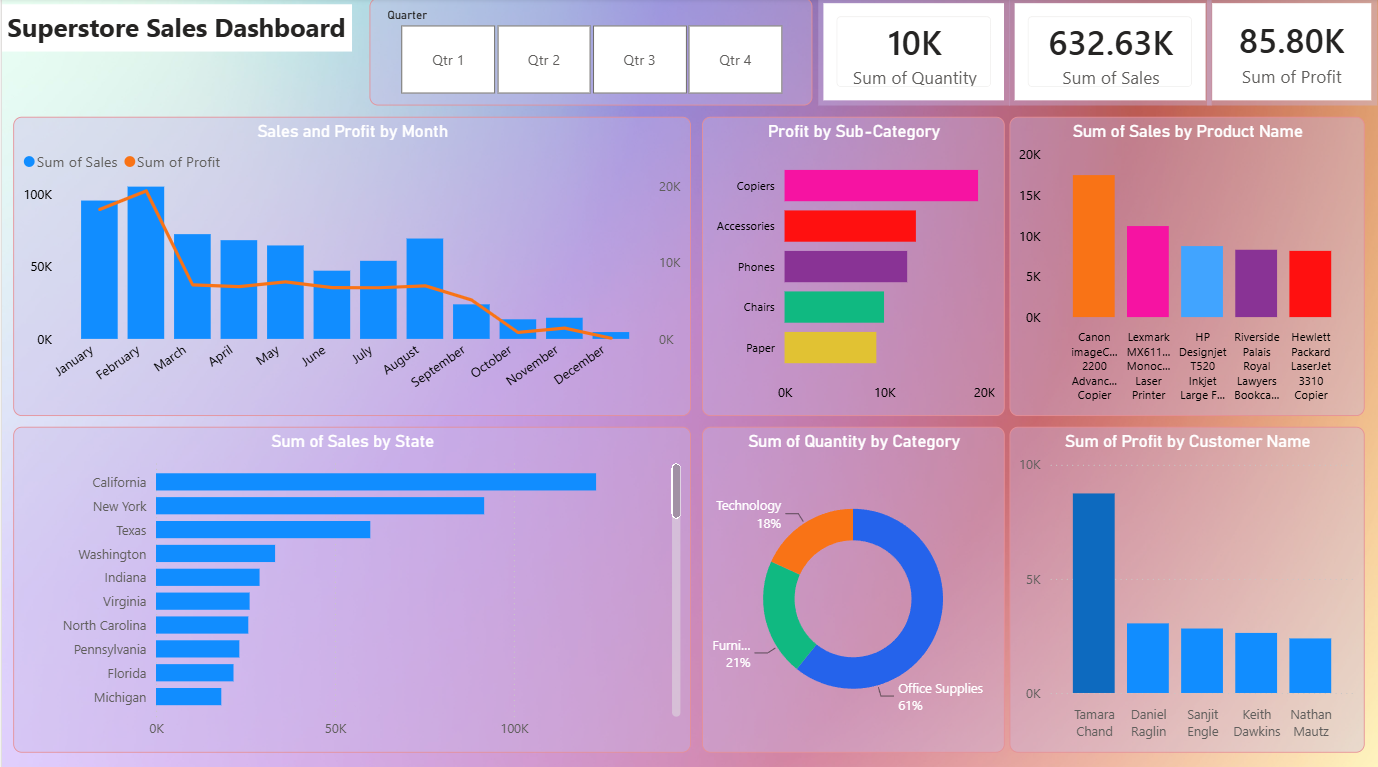

Layout of this report page (visuals, bound fields, positions):
{"tool":"powerbi","page":{"name":"Page 1","canvas":[1280,720],"ordinal":0},"visuals":[{"type":"textbox","box":[0,5.7,325.7,44.3],"z":0},{"type":"lineClusteredColumnComboChart","title":"Sales and Profit by Month","fields":{"Category":["Sample - Superstore.Order Date.Variation.Date Hierarchy.Month"],"Y":["Sum(Sample - Superstore.Sales)"],"Y2":["Sum(Sample - Superstore.Profit)"]},"box":[10,110,630,278.6],"z":1000},{"type":"barChart","title":"Profit by Sub-Category","fields":{"Category":["Sample - Superstore.Sub-Category"],"Y":["Sum(Sample - Superstore.Profit)"]},"box":[651.4,110,281.4,278.6],"z":2000},{"type":"donutChart","fields":{"Category":["Sample - Superstore.Category"],"Y":["Sum(Sample - Superstore.Quantity)"]},"box":[651.4,398.6,281.4,302.9],"z":3000},{"type":"clusteredBarChart","fields":{"Category":["Sample - Superstore.State"],"Y":["Sum(Sample - Superstore.Sales)"]},"box":[10,398.6,630,302.9],"z":4000},{"type":"cardVisual","fields":{"Data":["Sum(Sample - Superstore.Profit)"]},"box":[1121.4,0,158.6,100],"z":5000},{"type":"cardVisual","fields":{"Data":["Sum(Sample - Superstore.Sales)"]},"box":[937.2,0,188,100.2],"z":6000},{"type":"cardVisual","fields":{"Data":["Sum(Sample - Superstore.Quantity)"]},"box":[758.8,0,178.4,100.2],"z":7000},{"type":"columnChart","fields":{"Category":["Sample - Superstore.Product Name"],"Y":["Sum(Sample - Superstore.Sales)"]},"box":[937.1,110,330,278.6],"z":8000},{"type":"columnChart","fields":{"Category":["Sample - Superstore.Customer Name"],"Y":["Sum(Sample - Superstore.Profit)"]},"box":[937.1,398.6,330,302.9],"z":9000},{"type":"slicer","fields":{"Values":["Sample - Superstore.Order Date.Variation.Date Hierarchy.Quarter"]},"box":[341.7,0,411.7,100.2],"z":10000}]}

Visuals, with their boxes in screenshot pixels (x1, y1, x2, y2), scaled from the page's 1280x720 canvas onto the 1378x767 screenshot:
textbox: crop(0, 6, 351, 53)
"Sales and Profit by Month" lineClusteredColumnComboChart: crop(11, 117, 689, 414)
"Profit by Sub-Category" barChart: crop(701, 117, 1004, 414)
donutChart - Sample - Superstore.Category x Sum(Sample - Superstore.Quantity): crop(701, 425, 1004, 747)
clusteredBarChart - Sample - Superstore.State x Sum(Sample - Superstore.Sales): crop(11, 425, 689, 747)
cardVisual - Sum(Sample - Superstore.Profit): crop(1207, 0, 1377, 107)
cardVisual - Sum(Sample - Superstore.Sales): crop(1009, 0, 1211, 107)
cardVisual - Sum(Sample - Superstore.Quantity): crop(817, 0, 1009, 107)
columnChart - Sample - Superstore.Product Name x Sum(Sample - Superstore.Sales): crop(1009, 117, 1364, 414)
columnChart - Sample - Superstore.Customer Name x Sum(Sample - Superstore.Profit): crop(1009, 425, 1364, 747)
slicer - Sample - Superstore.Order Date.Variation.Date Hierarchy.Quarter: crop(368, 0, 811, 107)
